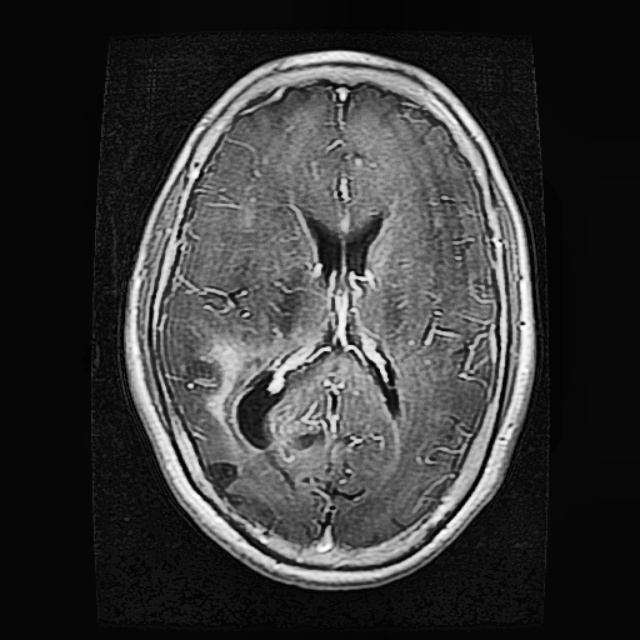Glioma: (200, 330, 310, 455)
